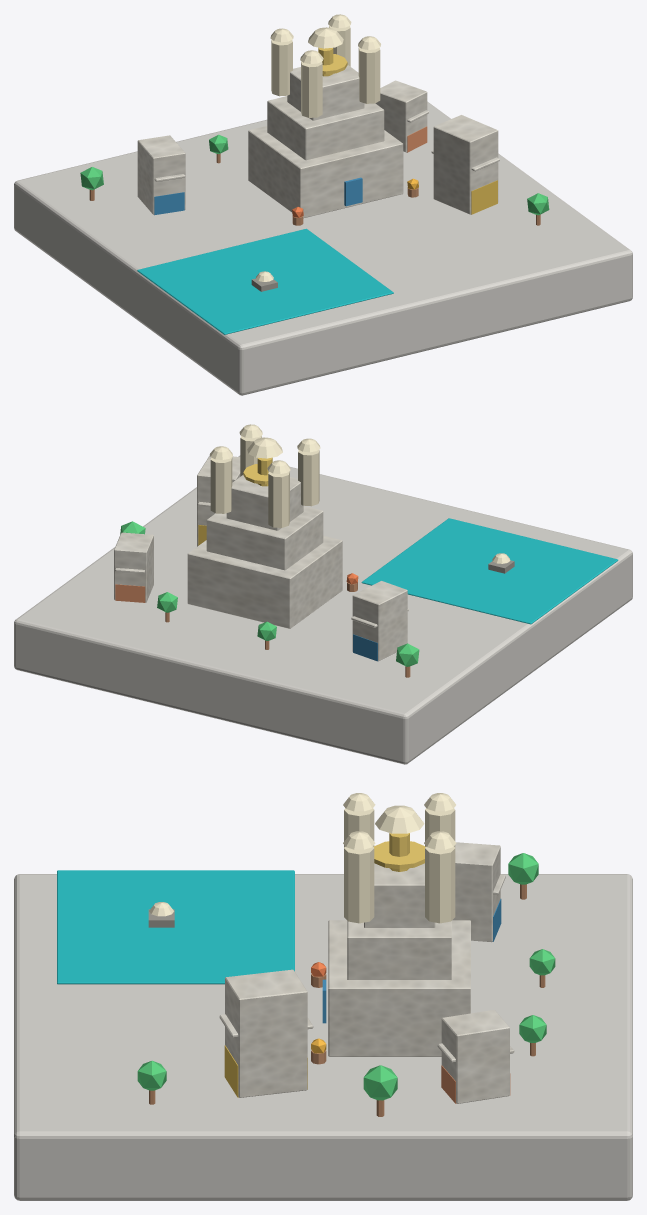
The model's file is udaipur_iso.glb.
The picture shows the model from 3 angles, top to bottom: view 1: azimuth 30°, elevation 25°; view 2: azimuth 150°, elevation 25°; view 3: azimuth 270°, elevation 25°; orthographic projection. The views are drawn at different scales.
Visible parts, largest first — view 1: Slab, IsoArchitecture, Lake, PalaceTurret.001, PalaceTurret, PalaceTurret.002, HaveliAccent_1, HaveliAccent_0, PalaceChhatriDome; view 2: Slab, IsoArchitecture, Lake, PalaceTurret.003, PalaceTurret.002, PalaceTurret, PalaceChhatriDome, HaveliAccent_2, HaveliAccent_0; view 3: Slab, IsoArchitecture, Lake, PalaceTurret.003, PalaceTurret.001, PalaceChhatriDome, PalaceChhatriTrim, TreeTop_5.6_1.2, TreeTop_-5.2_4.2, PalaceTurret, PalaceTurret.002, TreeTop_5.0_-3.6 (+1 smaller).
Part boxes in pixels (bbox=[...]): Slab: bbox=[14, 101, 632, 395]; IsoArchitecture: bbox=[137, 65, 499, 218]; Lake: bbox=[137, 228, 393, 334]; PalaceTurret.001: bbox=[358, 47, 380, 103]; PalaceTurret: bbox=[301, 61, 322, 117]; PalaceTurret.002: bbox=[271, 39, 292, 96]; HaveliAccent_1: bbox=[471, 180, 497, 214]; HaveliAccent_0: bbox=[154, 192, 184, 215]; PalaceChhatriDome: bbox=[308, 27, 343, 48]; Slab: bbox=[14, 455, 632, 764]; IsoArchitecture: bbox=[114, 455, 408, 661]; Lake: bbox=[361, 518, 618, 624]; PalaceTurret.003: bbox=[210, 457, 232, 513]; PalaceTurret.002: bbox=[268, 471, 289, 527]; PalaceTurret: bbox=[298, 449, 319, 506]; PalaceChhatriDome: bbox=[247, 437, 282, 458]; HaveliAccent_2: bbox=[115, 584, 145, 602]; HaveliAccent_0: bbox=[353, 634, 377, 661]; Slab: bbox=[14, 874, 632, 1200]; IsoArchitecture: bbox=[219, 842, 514, 1103]; Lake: bbox=[57, 870, 294, 984]; PalaceTurret.003: bbox=[425, 846, 455, 923]; PalaceTurret.001: bbox=[344, 846, 374, 923]; PalaceChhatriDome: bbox=[375, 805, 424, 833]; PalaceChhatriTrim: bbox=[374, 841, 425, 869]; TreeTop_5.6_1.2: bbox=[363, 1065, 397, 1100]; TreeTop_-5.2_4.2: bbox=[508, 853, 538, 884]; PalaceTurret: bbox=[344, 808, 374, 847]; PalaceTurret.002: bbox=[425, 808, 455, 847]; TreeTop_5.0_-3.6: bbox=[137, 1060, 166, 1090].
Size of the model in its own units: 13 by 6.6 by 13.
12 materials, 1 textured.
